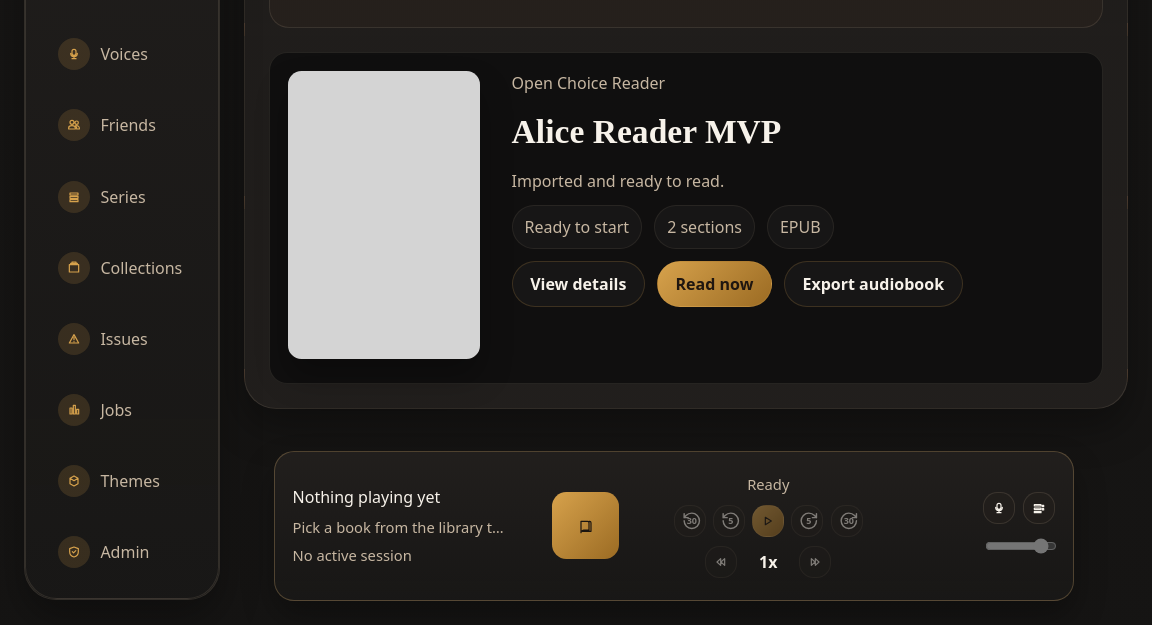
Test: LibraryPage › starts reading from the selected library spotlight
(page scrolled)
Check: the heading "Alice Reader MVP" is shown, box [512, 113, 781, 150]
Click the button "Read now": (714, 284) [657, 261, 772, 307]
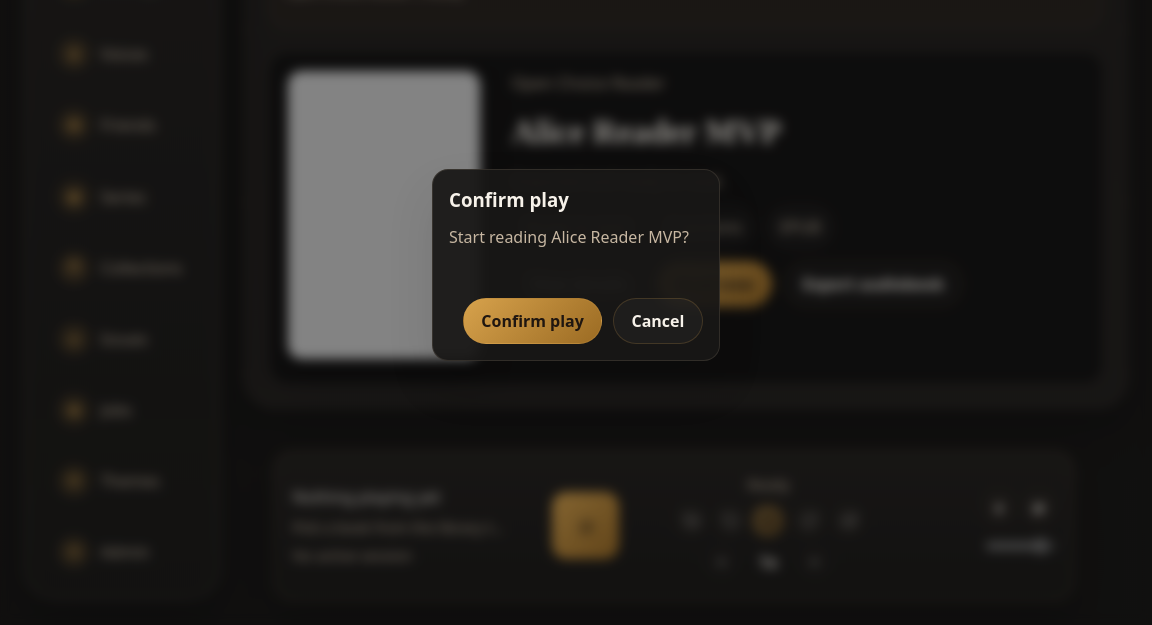
Check: the dialog "Confirm play" is shown, box [432, 169, 720, 361]
Check: the text "Start reading Alice Reader MVP?" is shown, box [449, 225, 703, 249]
Click the button "Confirm play": (533, 321) [463, 298, 602, 344]
(page scrolled)
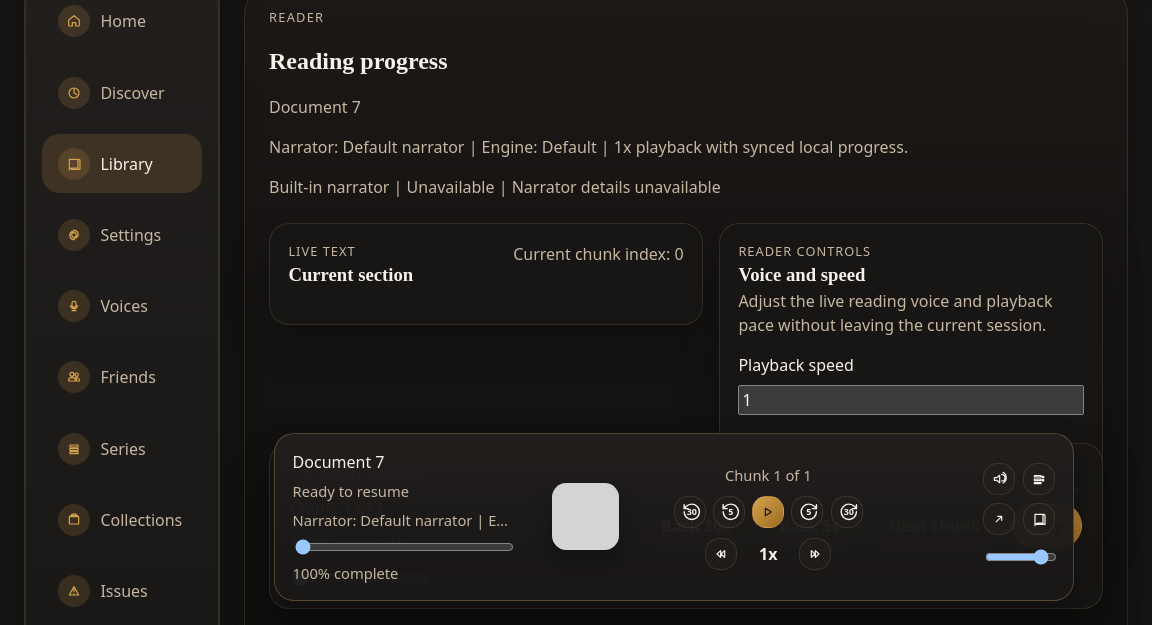
Check: the heading "Reading progress" is shown, box [269, 48, 448, 74]
Check: the text "Current chunk index: 0" is shown, box [513, 243, 684, 265]
